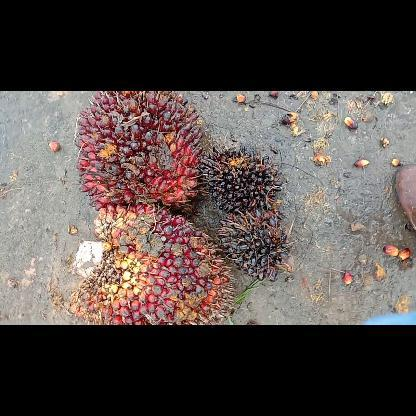TBS abnormal: (198, 140, 290, 216), (214, 206, 295, 283)
TBS masak: (66, 204, 240, 324), (73, 91, 212, 211)
